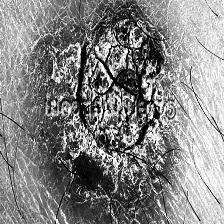Toxin: (44, 0, 168, 176)
